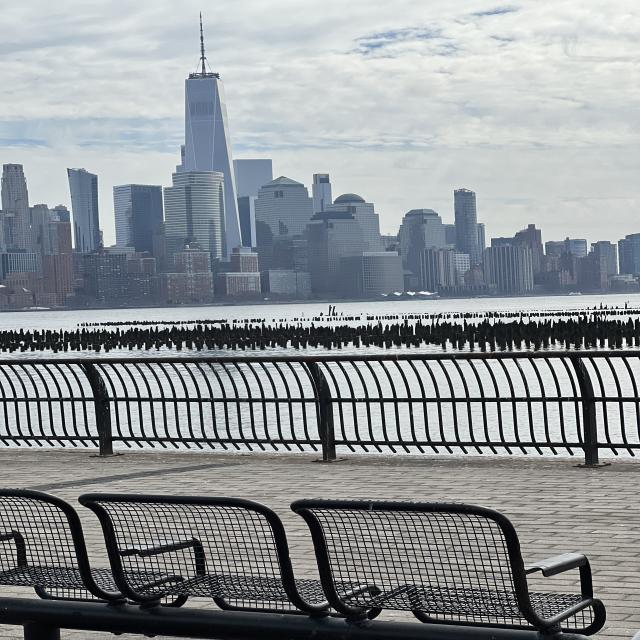WTC: (184, 10, 232, 174)
